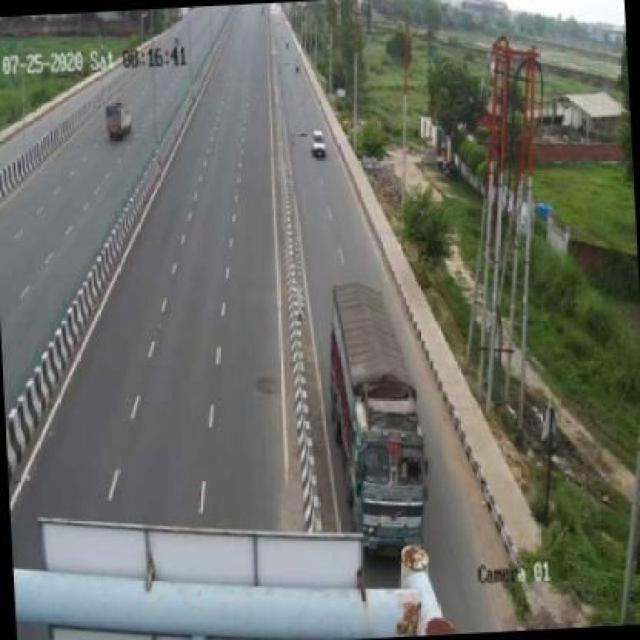car: (98, 95, 142, 143), (306, 126, 331, 163)
